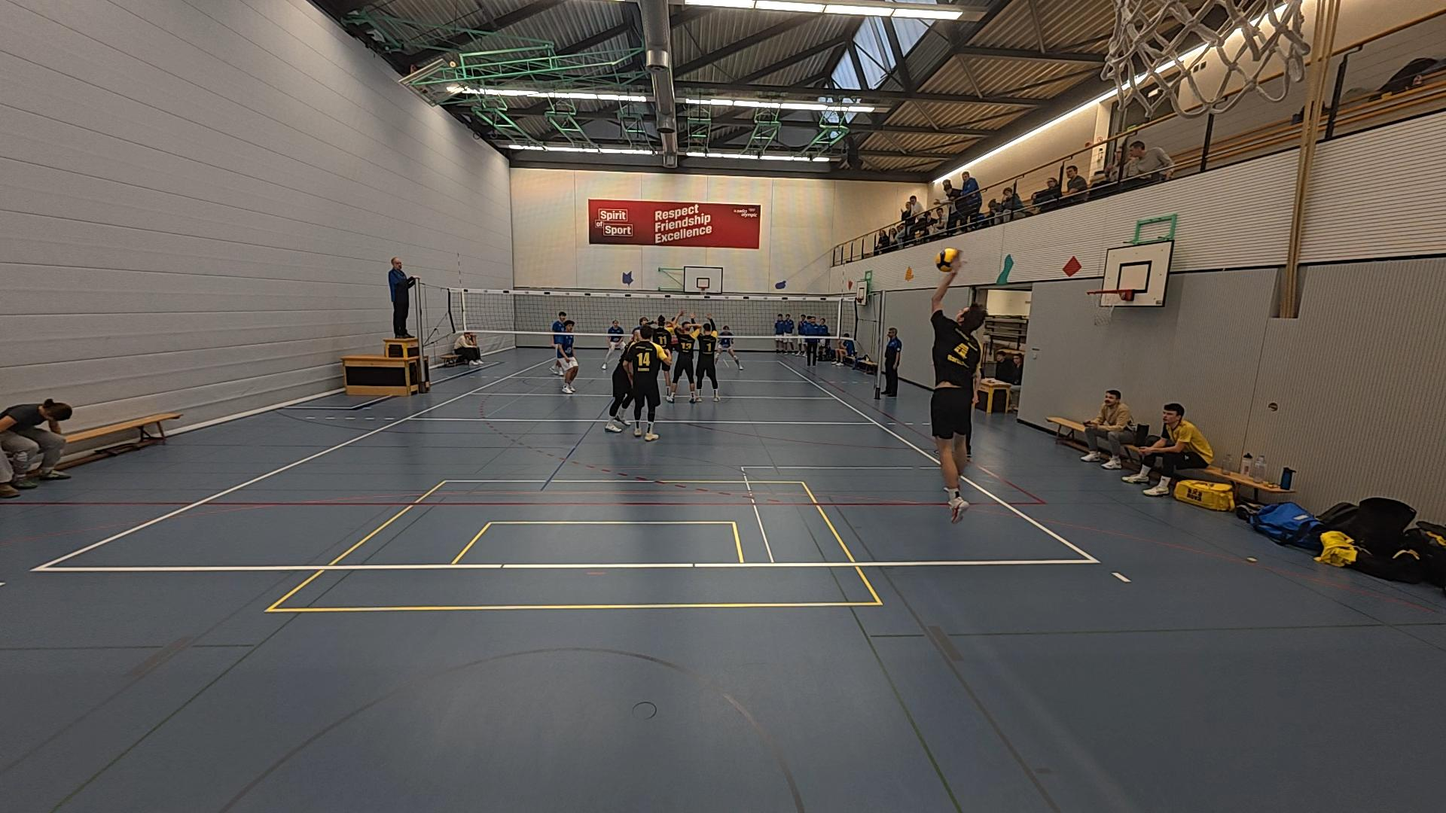Player: (619, 325, 664, 441), (604, 330, 637, 434), (689, 318, 723, 402), (656, 313, 684, 400), (552, 310, 579, 393), (715, 320, 742, 370), (604, 317, 626, 364)
Serve: (924, 264, 988, 523)
ball: (935, 248, 962, 269)
